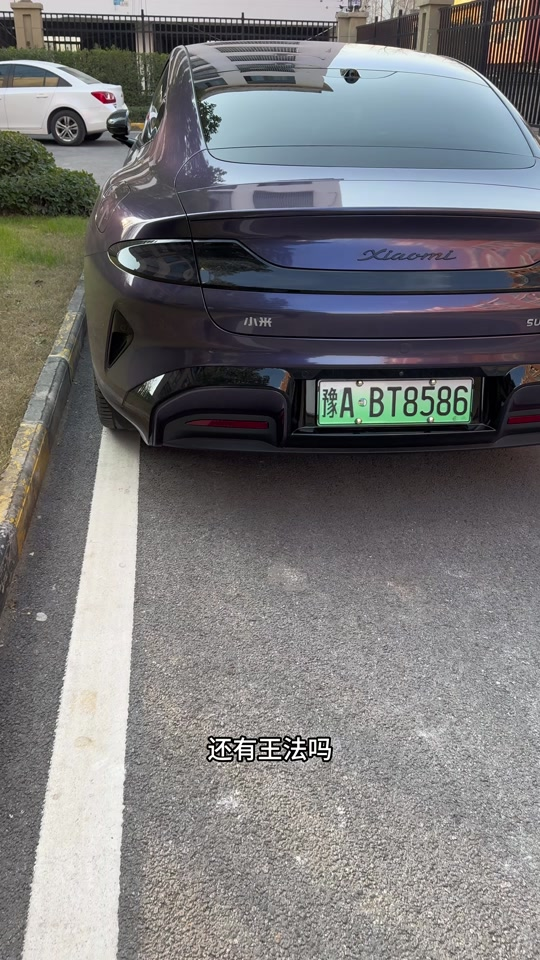other: (0, 64, 126, 142)
su7: (92, 24, 540, 459)
